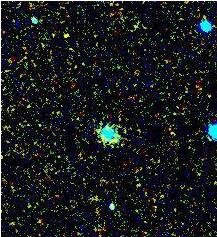star: (55, 22, 85, 52)
